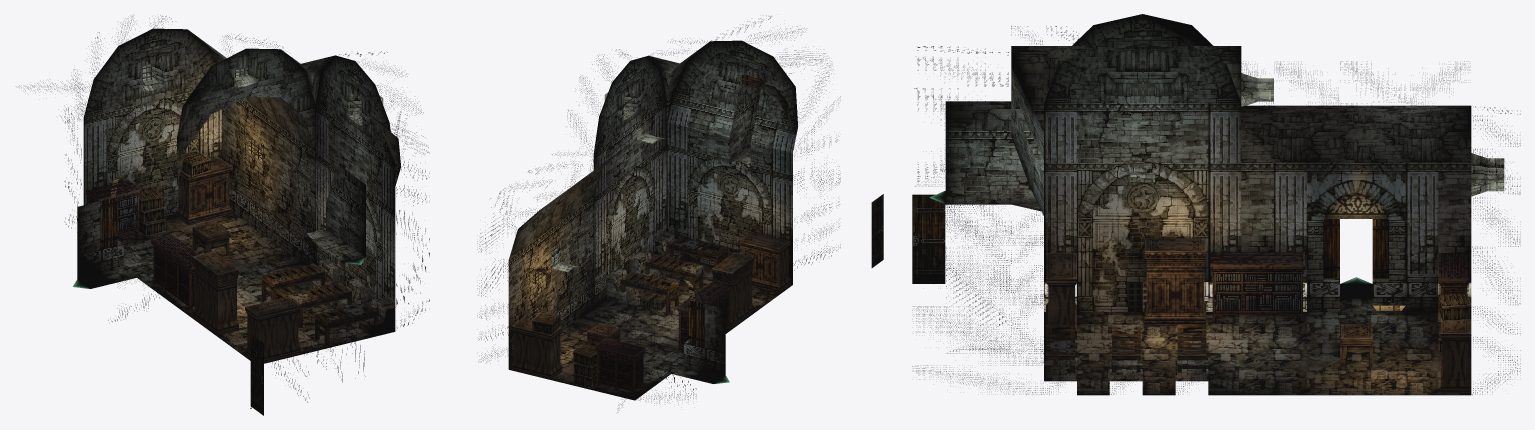
File: MAP049.gltf
3 views of the same model, side by side, from view 1: azimuth 30°, elevation 25°; view 2: azimuth 150°, elevation 25°; view 3: azimuth 270°, elevation 25° (orthographic). The views are drawn at different scales.
Bounding box in the file's own units: 134 × 130 × 237.
108 materials, 108 textured.
